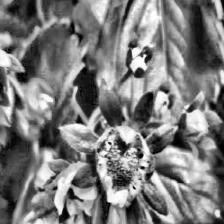Blossom Blight: (94, 128, 156, 199)
